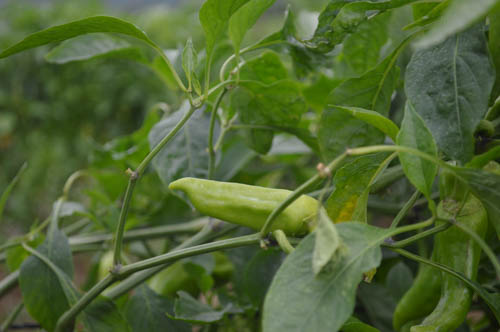ChiliPepper: (173, 177, 318, 242), (425, 211, 487, 332), (390, 262, 444, 328)
